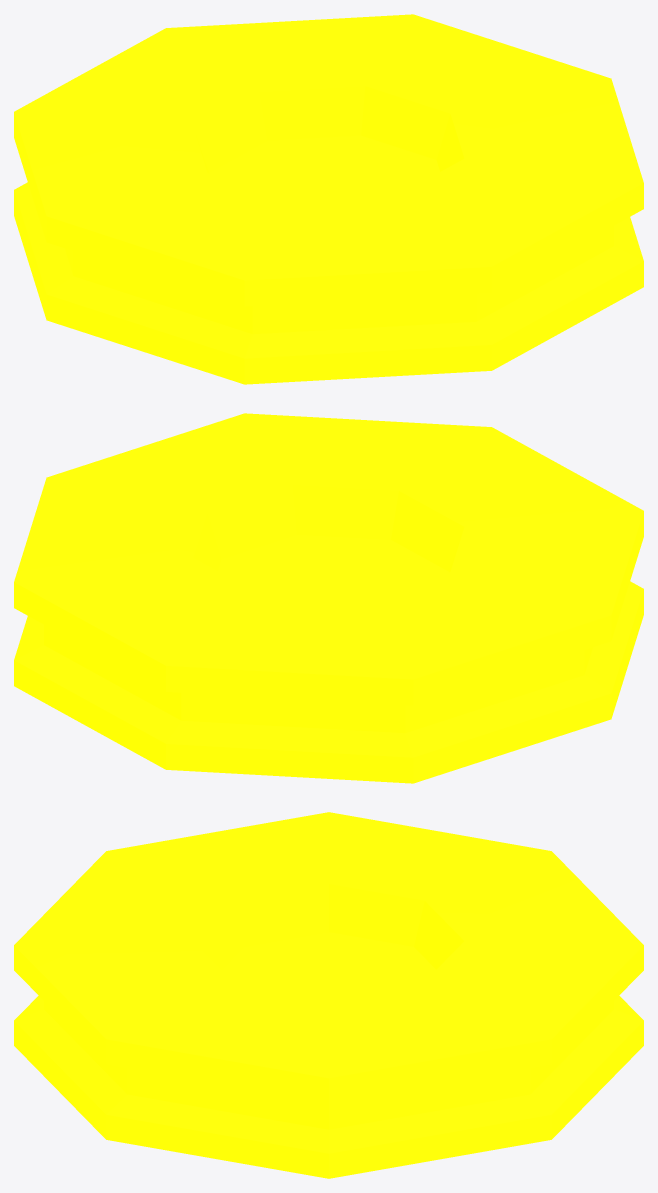
File: cookie-jam-circle.glb
3 views of the same model, one above another, from view 1: azimuth 30°, elevation 25°; view 2: azimuth 150°, elevation 25°; view 3: azimuth 270°, elevation 25° (orthographic). The views are drawn at different scales.
Parts seen in each view (by area): view 1: cookie_jam_circle; view 2: cookie_jam_circle; view 3: cookie_jam_circle.
Part boxes in pixels (x1=…): cookie_jam_circle: x1=14, y1=14, x2=643, y2=384; cookie_jam_circle: x1=14, y1=413, x2=643, y2=783; cookie_jam_circle: x1=14, y1=812, x2=643, y2=1178.
Size of the model in its own units: 0.0495 by 0.00907 by 0.0495.
Materials: 1 (1 with a texture image).
